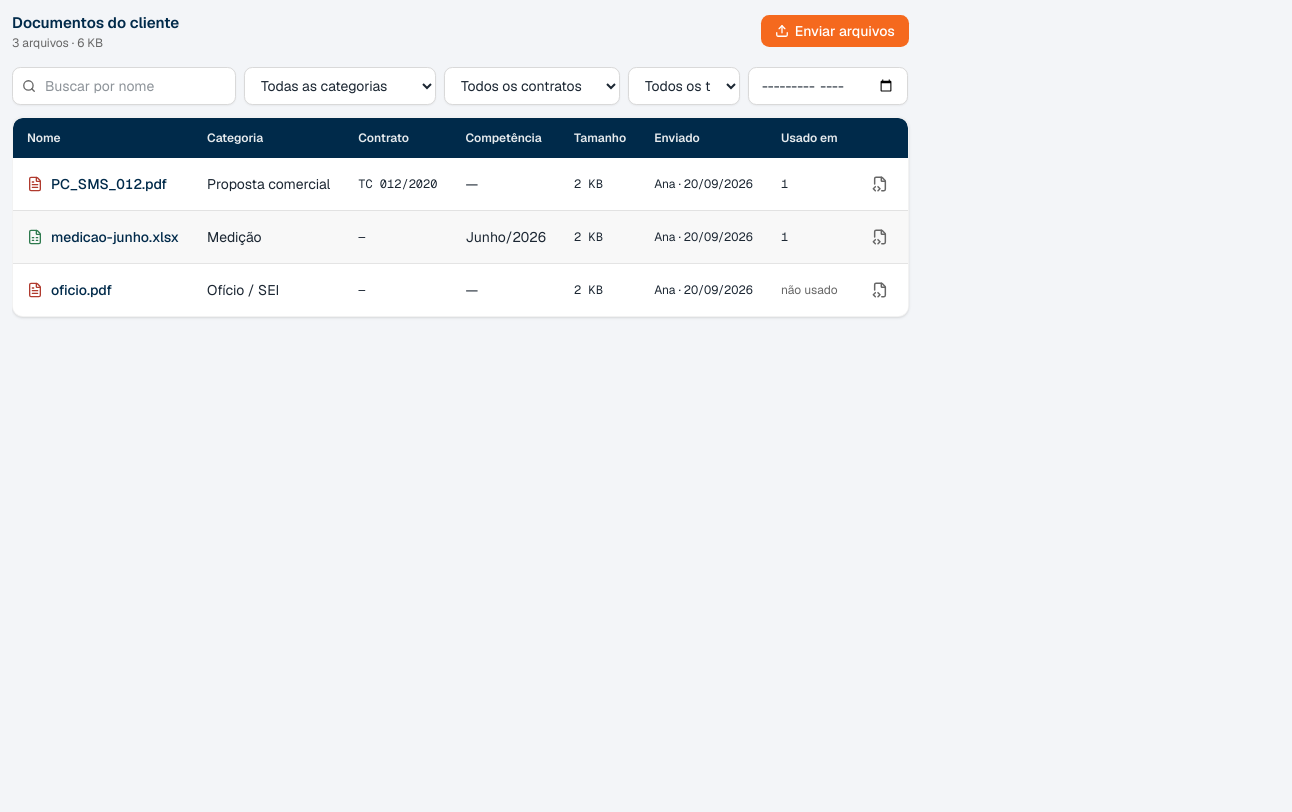
Test: AbaDocumentos › painel: pré-visualiza PDF, mostra onde é usado e bloqueia remover arquivo em uso
Click the button "medicao-junho.xlsx": (103, 237) x1=27 y1=227 x2=179 y2=247
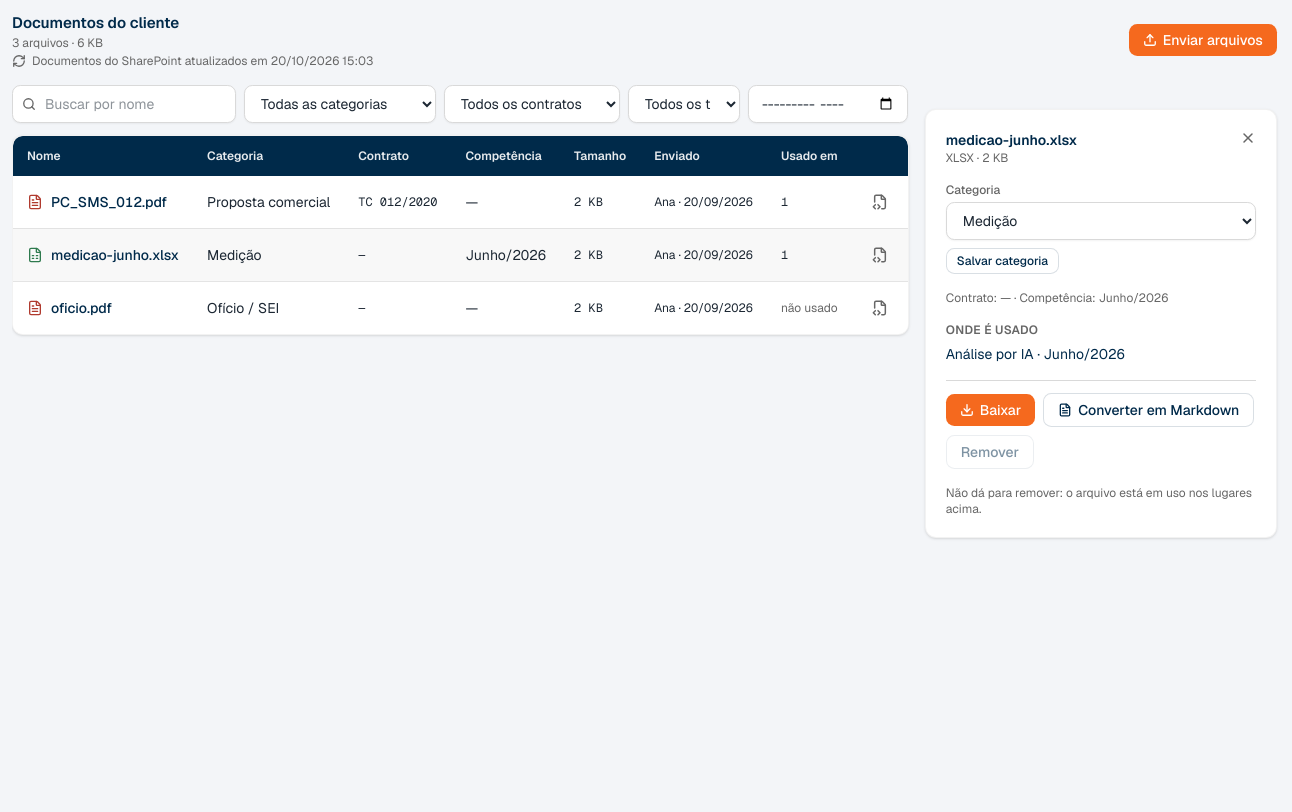
expect the text "Contrato: — · Competência: Junho/2026" is shown: met, box x1=946 y1=290 x2=1168 y2=306
expect the button "Remover" is disabled: met, box x1=946 y1=435 x2=1034 y2=469
Click the button "PC_SMS_012.pdf": (97, 202) x1=27 y1=192 x2=167 y2=212
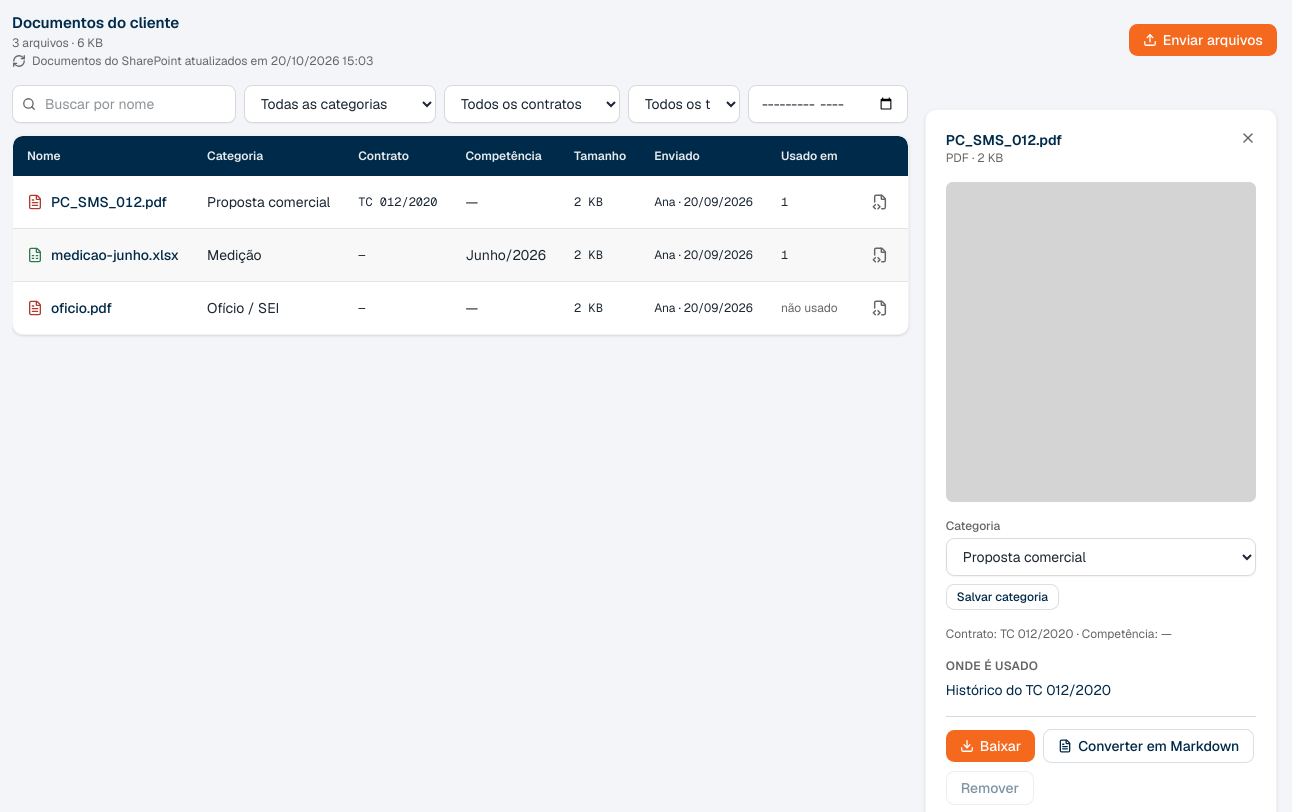
expect the text "Contrato: TC 012/2020 · Competência: —" is shown: met, box x1=946 y1=626 x2=1172 y2=642
